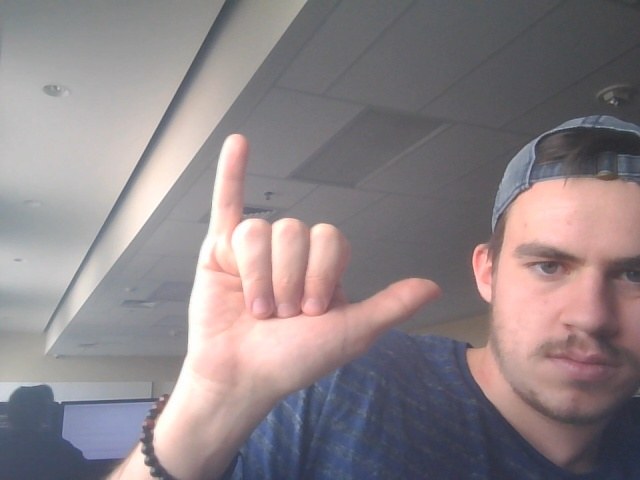birdsup: (174, 123, 452, 407)
